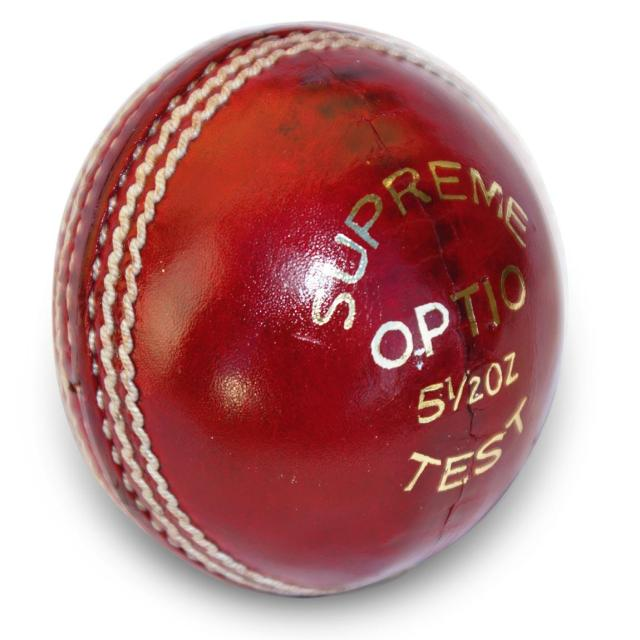ball: (56, 29, 570, 600)
